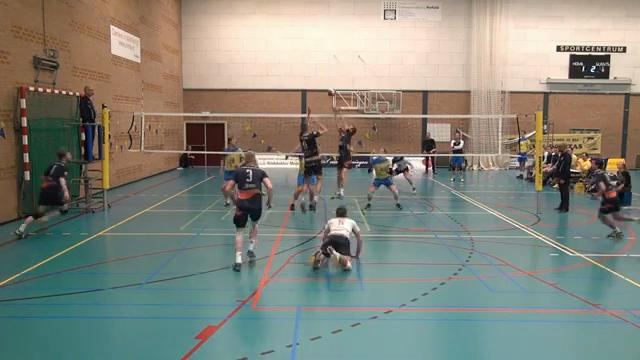alzata: (329, 102, 357, 203)
attacco: (298, 103, 329, 215)
